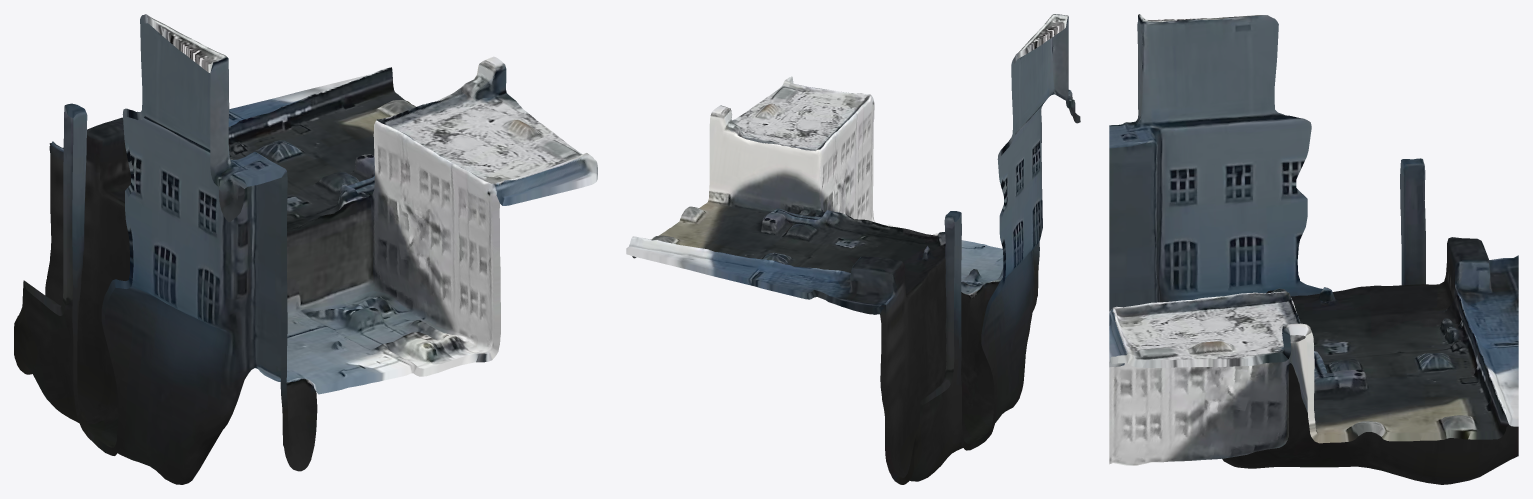
The model's file is z20-167744-405245-h0-yup-uvflip-v3-world.glb.
The picture shows the model from 3 angles, left to right: view 1: azimuth 30°, elevation 25°; view 2: azimuth 150°, elevation 25°; view 3: azimuth 270°, elevation 25°; orthographic projection. The views are drawn at different scales.
Bounding box in the file's own units: 30.2 × 37.4 × 30.32.
Materials: 1 (1 with a texture image).
